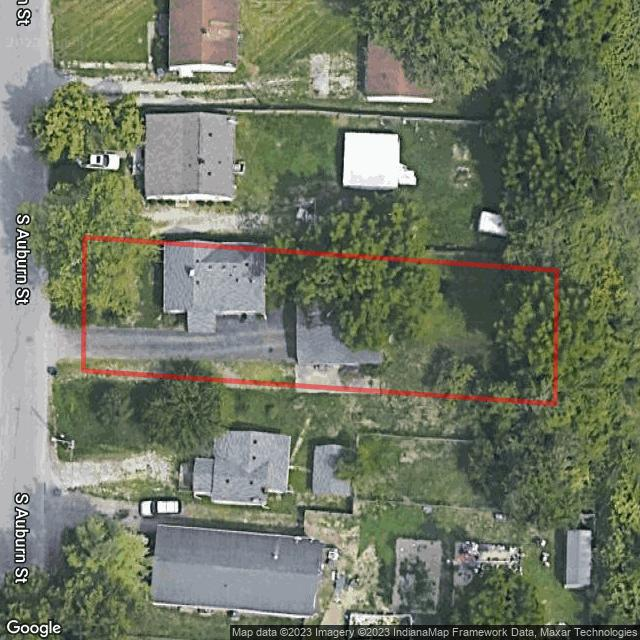Driveway: (86, 308, 295, 363)
Extra Driveway: (47, 318, 82, 367)
House: (164, 246, 265, 332)
Other: (297, 309, 382, 387)
